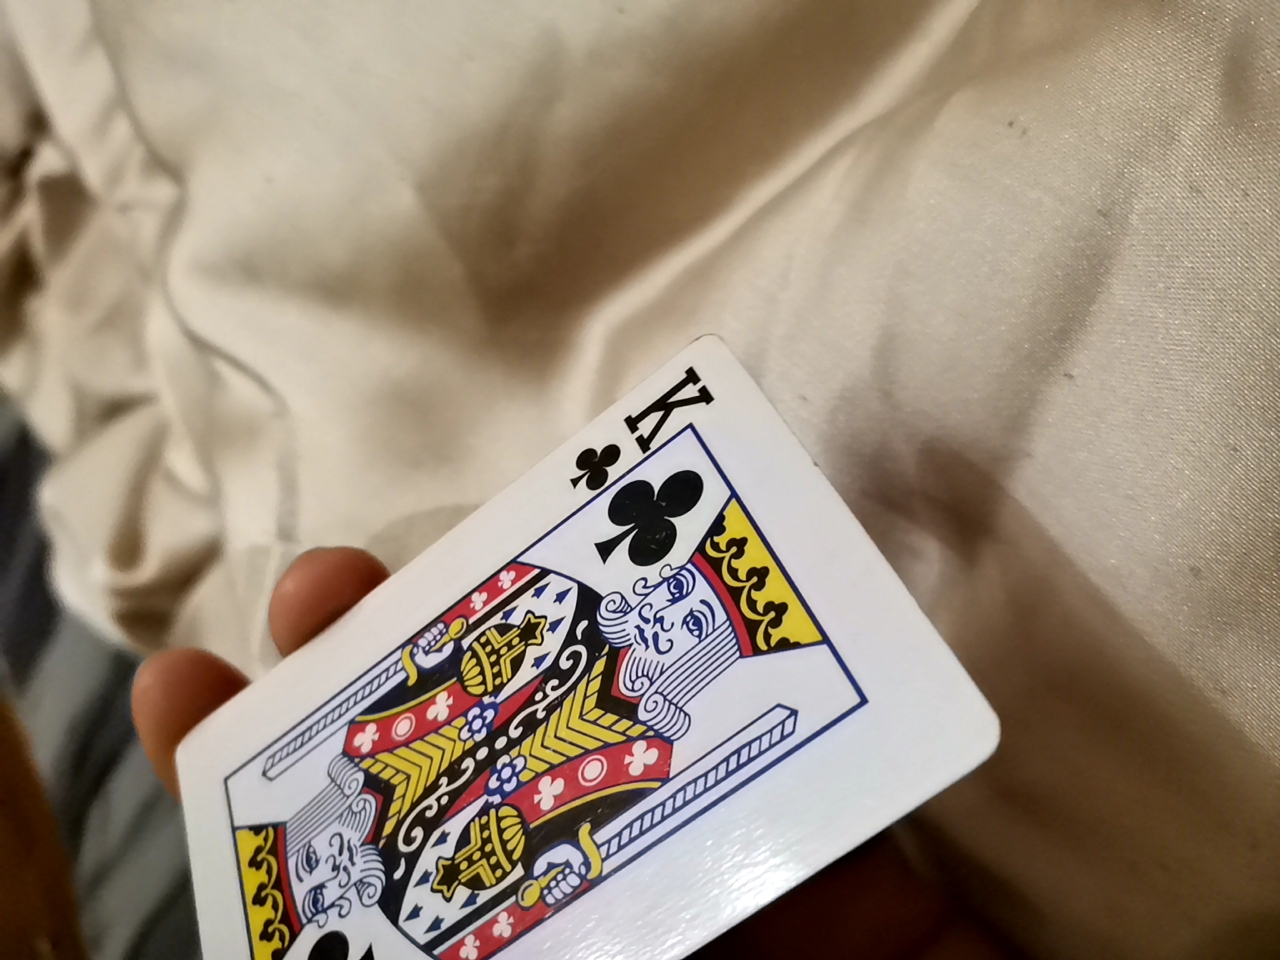mh k: (112, 298, 998, 960)
